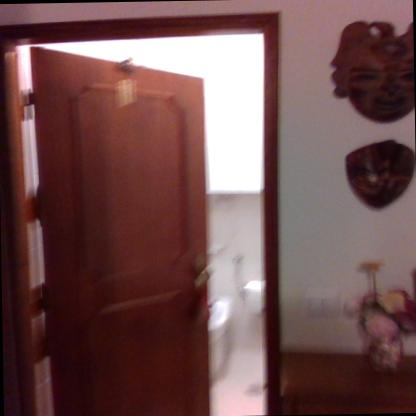semi: (0, 4, 298, 416)
